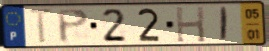2: (100, 8, 129, 43), (136, 7, 161, 43)
H: (174, 6, 207, 44)
I: (219, 6, 230, 43)
P: (55, 8, 91, 45)
T: (27, 7, 57, 46)
